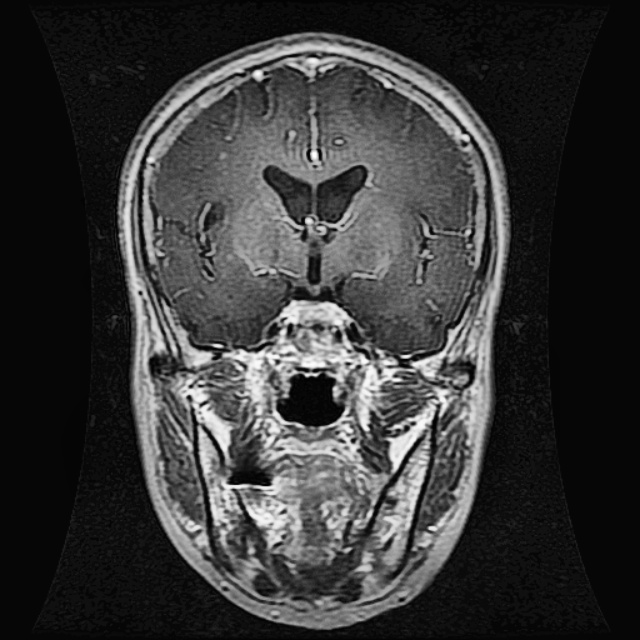Meningioma: (193, 198, 228, 275)
